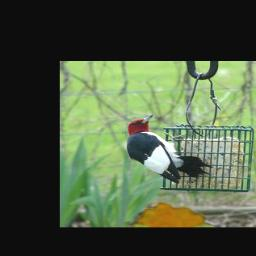Woodpecker: (128, 114, 214, 183)
